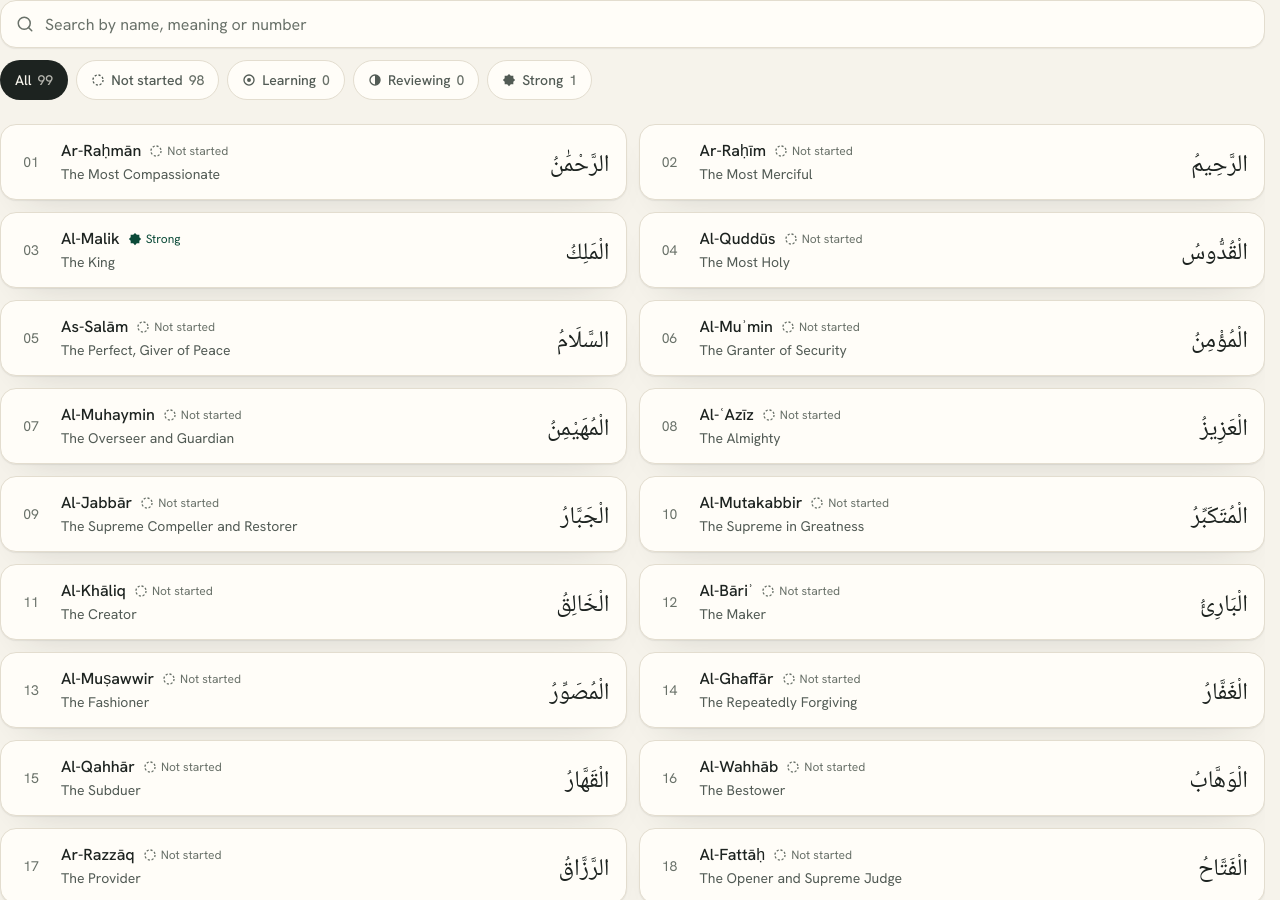
Test: explore › filters by learning status
This screenshot has width=1280, height=900.
Click the button "Strong 1": (540, 80) [487,60,592,100]
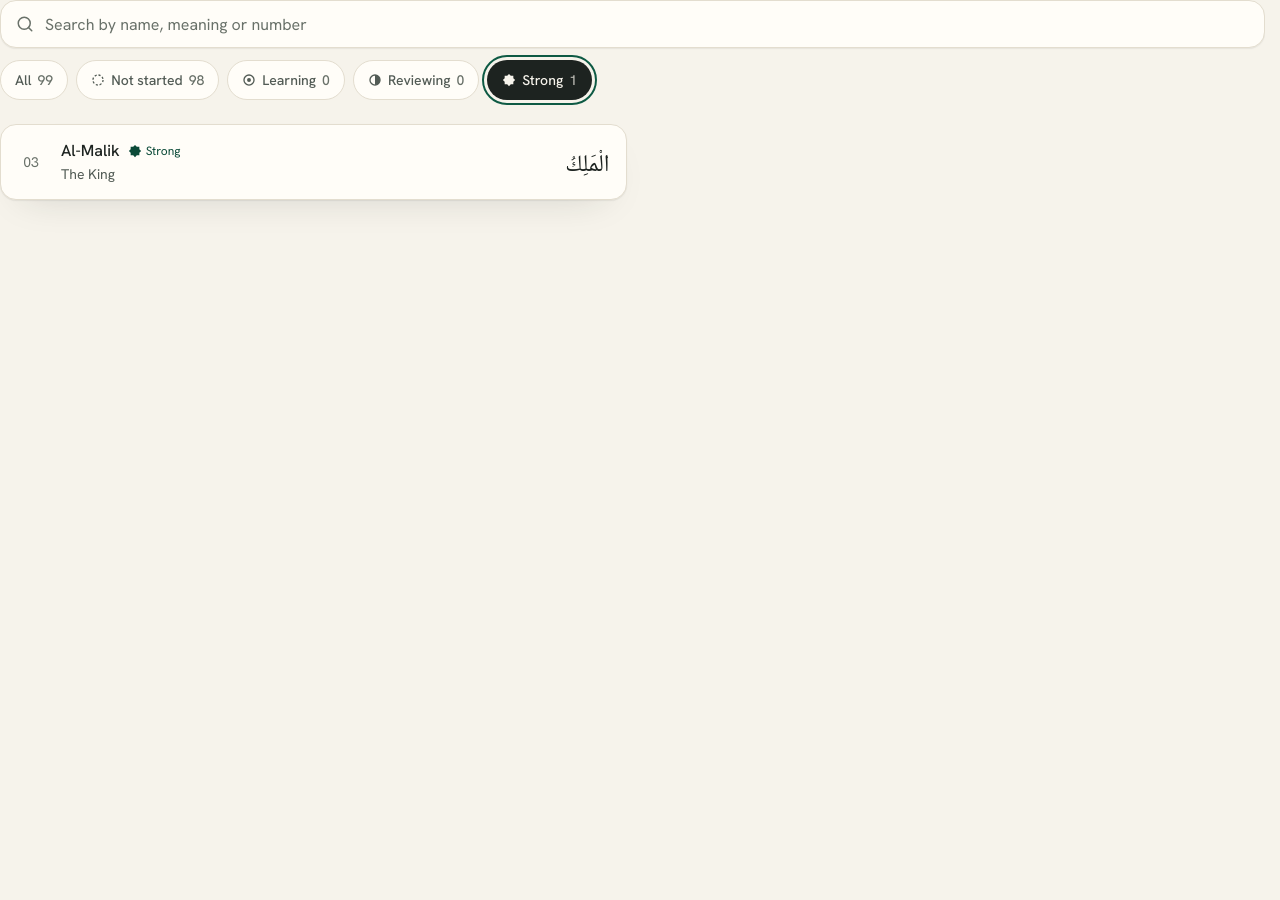
Expected: the number of list items is 1, [0,124,626,200]
